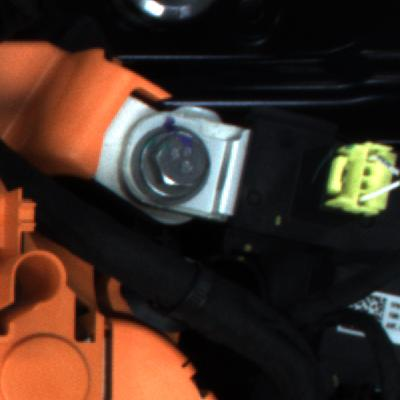nut_b: (129, 119, 222, 209)
